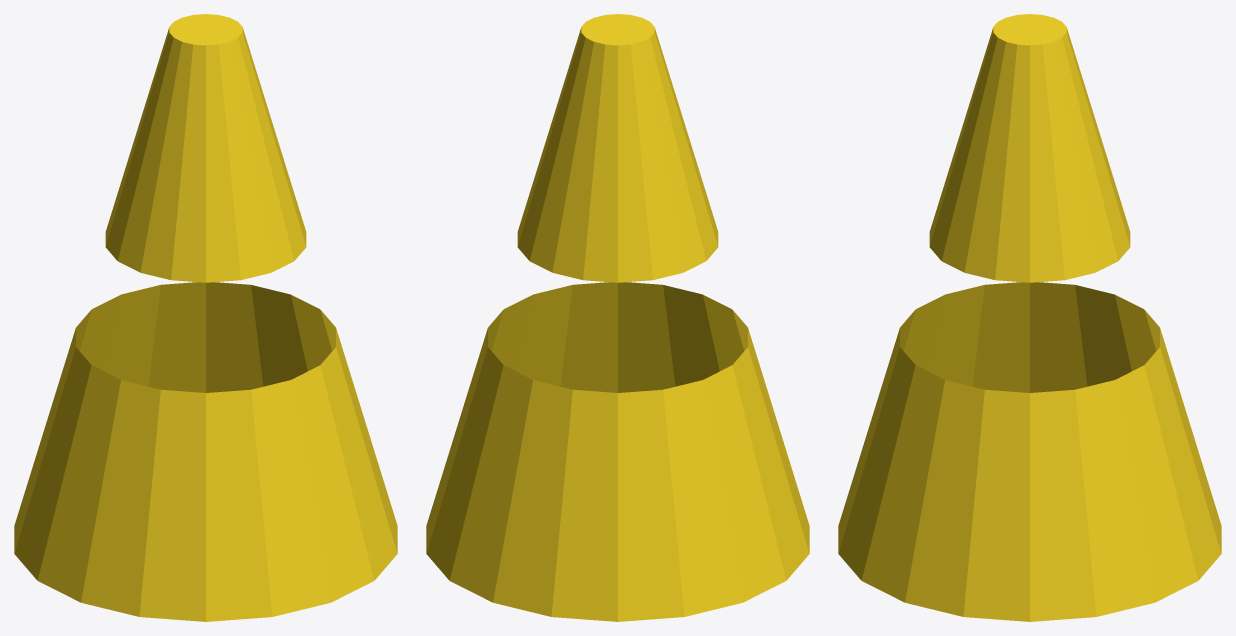
Rendered from HomebaseSpawnProbe_LOD00.gltf.
The picture shows the model from 3 angles, left to right: view 1: azimuth 30°, elevation 25°; view 2: azimuth 150°, elevation 25°; view 3: azimuth 270°, elevation 25°; orthographic projection.
Parts seen in each view (by area): view 1: HomebaseSpawnProbe_node; view 2: HomebaseSpawnProbe_node; view 3: HomebaseSpawnProbe_node.
Boxes of the visible parts, bbox=[...] form: HomebaseSpawnProbe_node: bbox=[14, 14, 397, 621]; HomebaseSpawnProbe_node: bbox=[426, 14, 809, 621]; HomebaseSpawnProbe_node: bbox=[838, 14, 1221, 621].
Size of the model in its own units: 0.47 by 0.68 by 0.4629.
